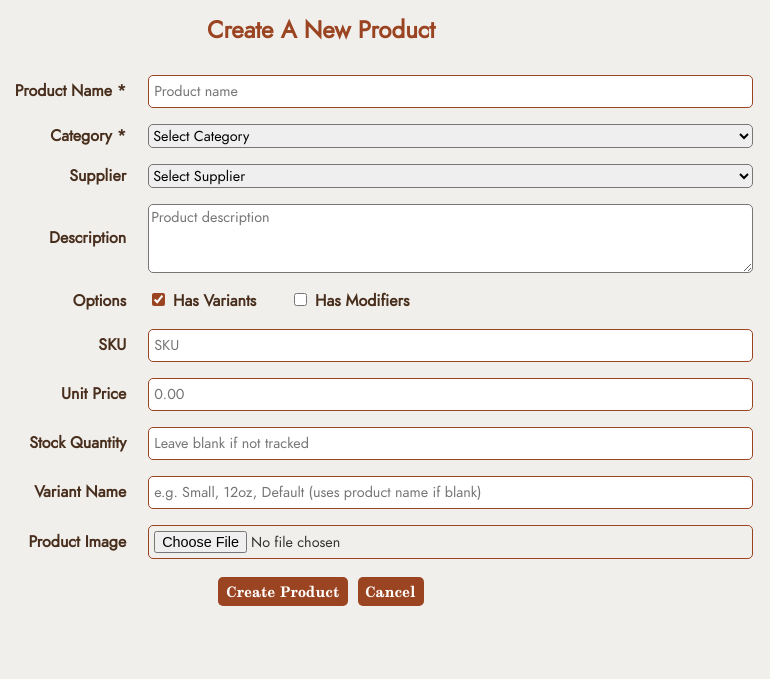
it: AdminProductFormPage › shows validation message from response.message
The image size is (770, 679).
Type "Latte" into the field with placeholder "Product name".
click(451, 91); type("Latte")  # box x1=148 y1=75 x2=753 y2=108
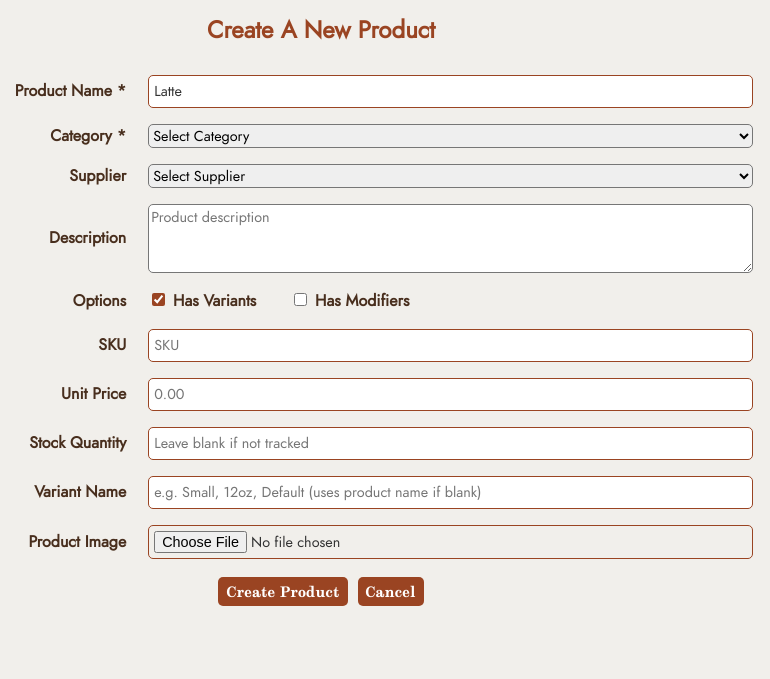
Select "Coffee" in the dropdown next to "Category *" at (451, 136), box x1=148 y1=124 x2=753 y2=148
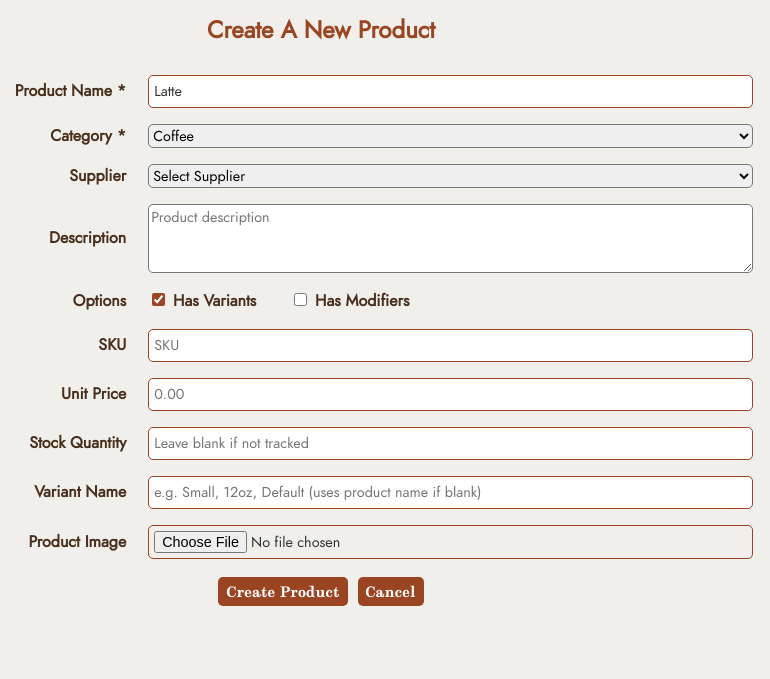
Click the button "Create Product".
click(283, 591)  # box x1=218 y1=577 x2=348 y2=606
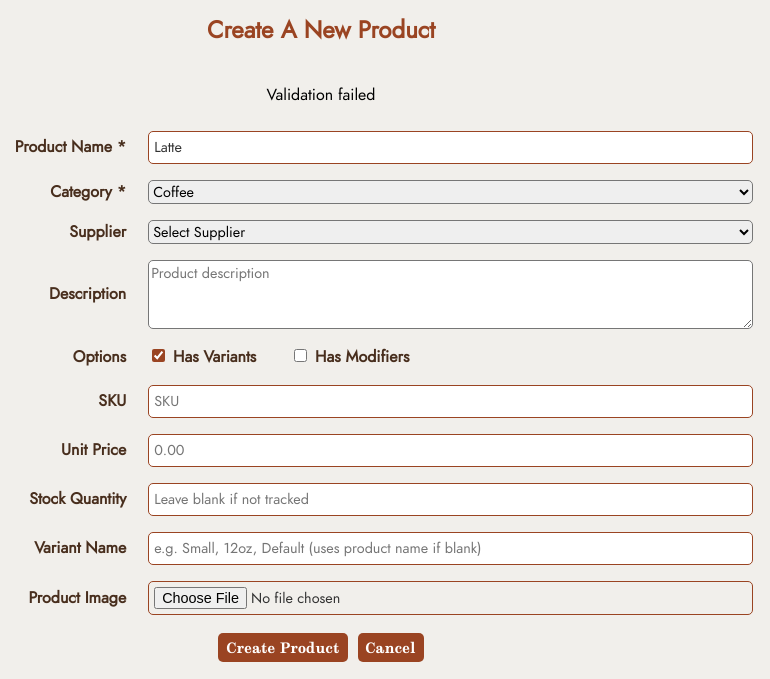
Expected: the text "Validation failed" is shown, x1=266 y1=84 x2=375 y2=106
